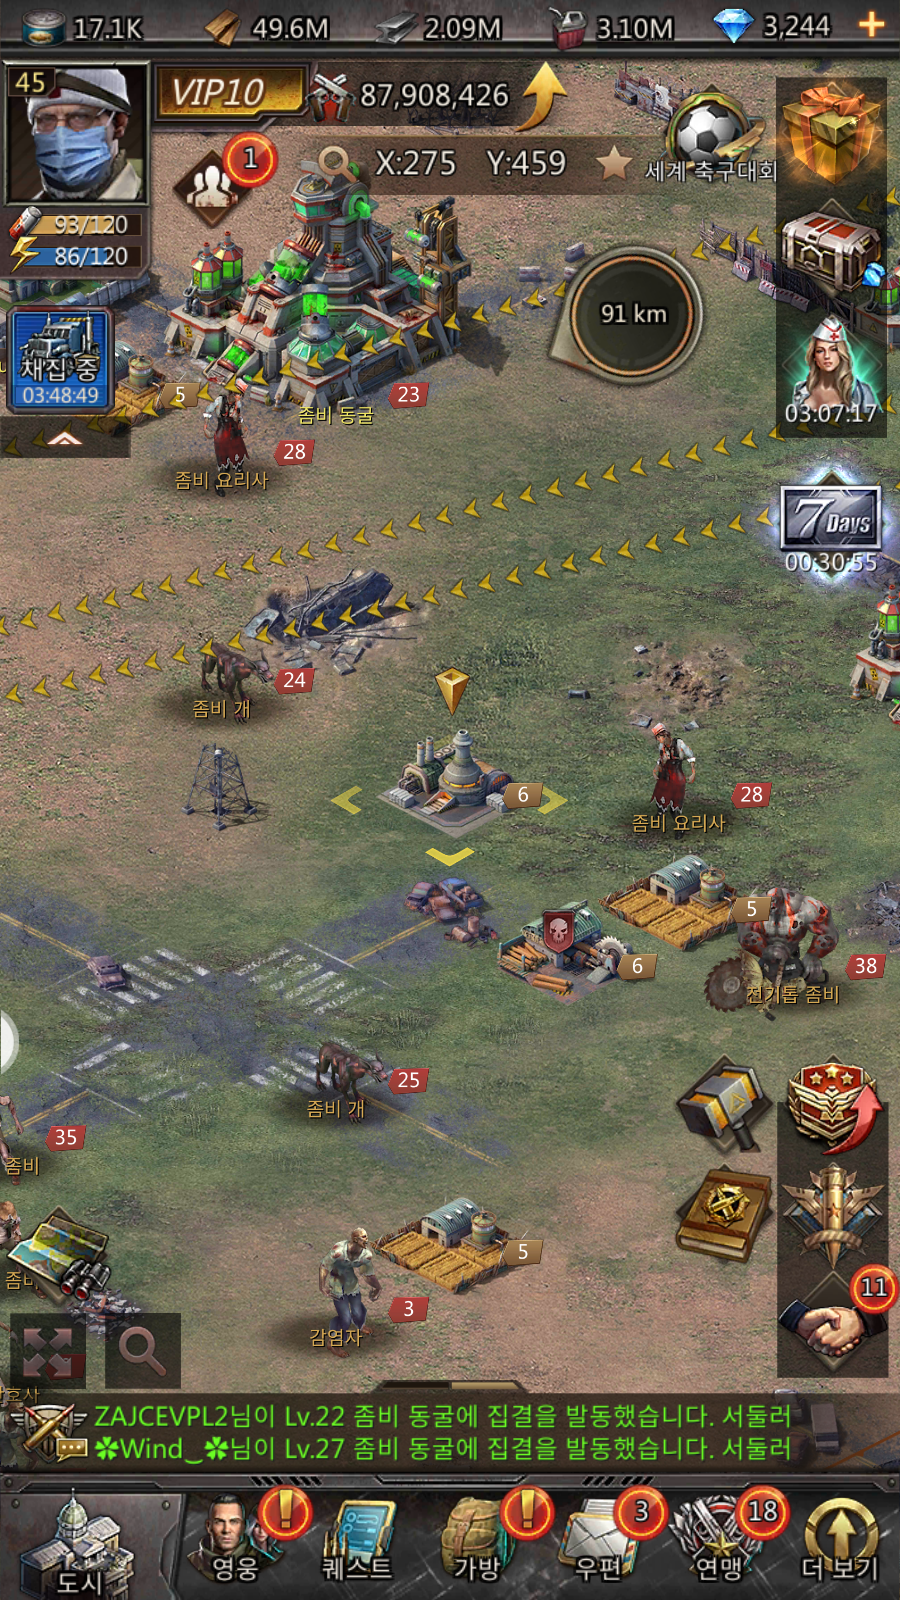city: (13, 1491, 180, 1600)
empty_steel: (318, 649, 580, 885)
open_panel: (93, 1293, 207, 1416)
troops_cnt_1: (160, 111, 289, 249)
